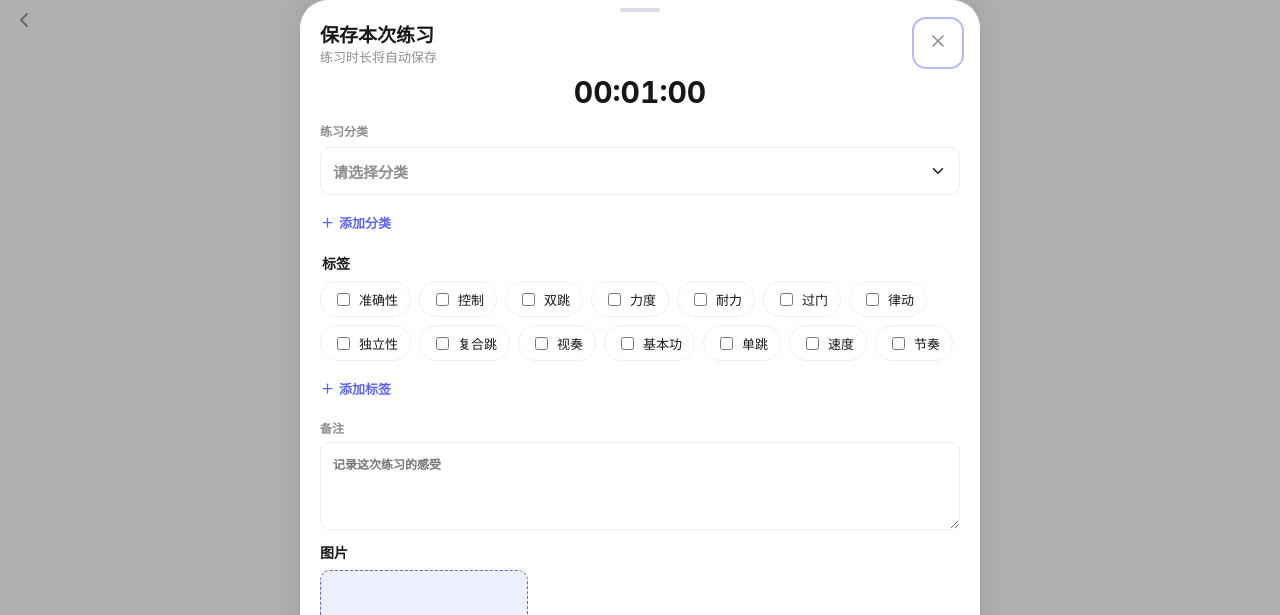
Scenario: TimerPage › keeps the selected category after confirming a new tag
The width and height of the screenshot is (1280, 615).
Click the button with aria-label "选择练习分类". click: click(371, 172)
box: [320,147,960,195]
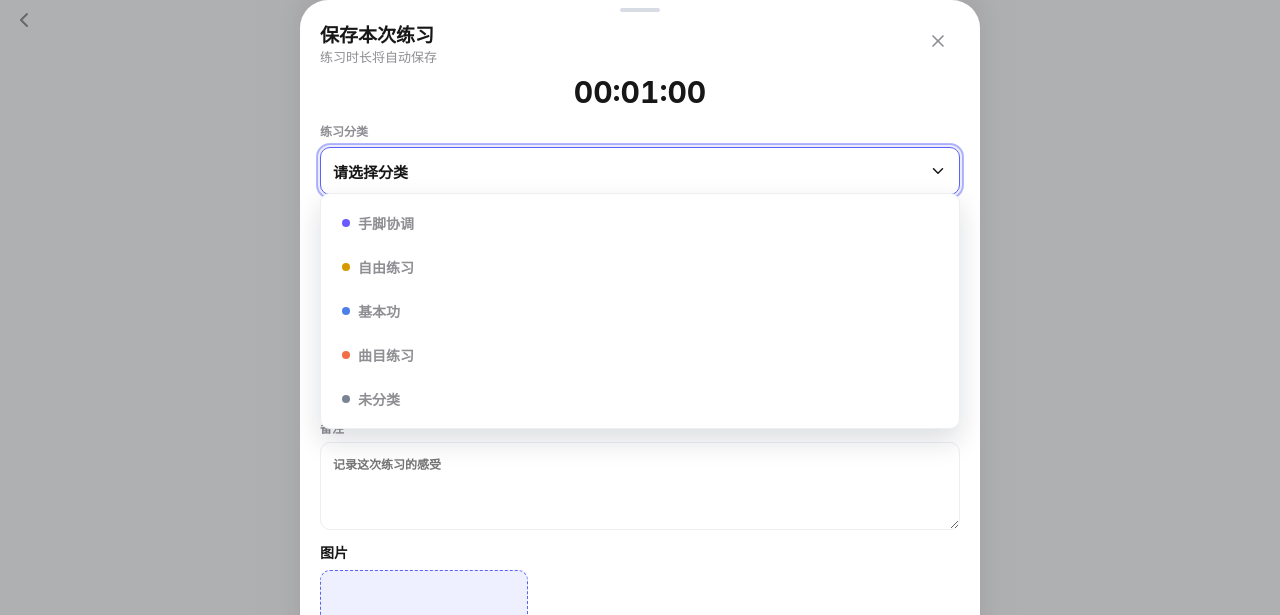
Click the option "基本功". click: click(379, 312)
box: [329,290,951,332]
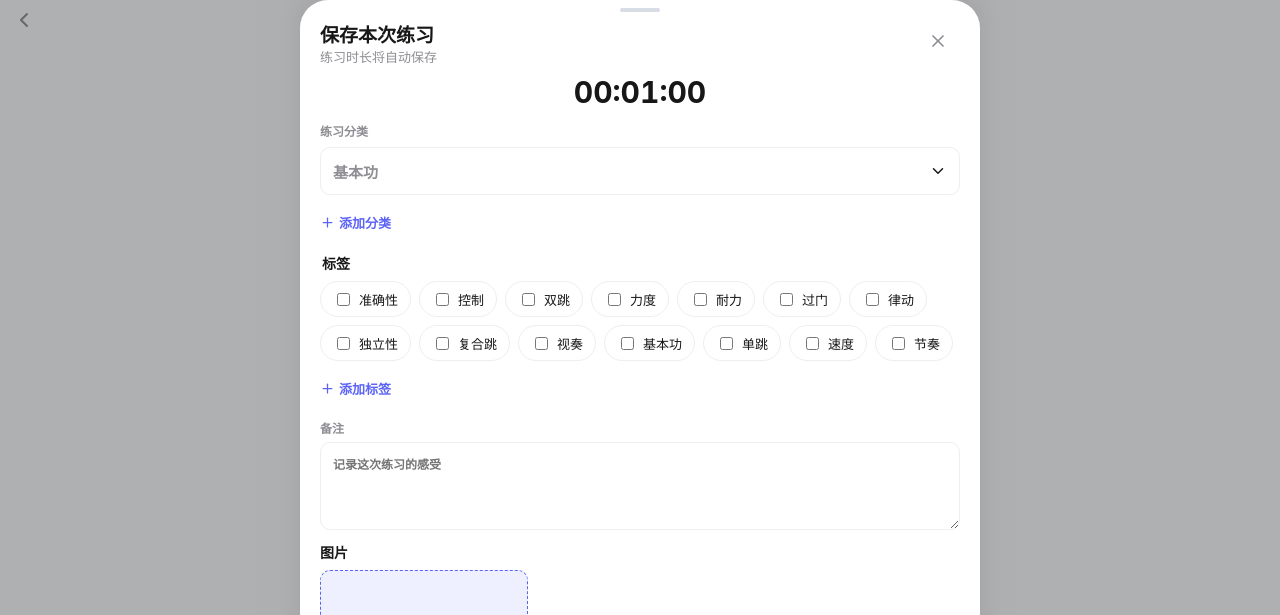
Click the button "添加标签". click: click(356, 388)
box: [320,369,391,407]
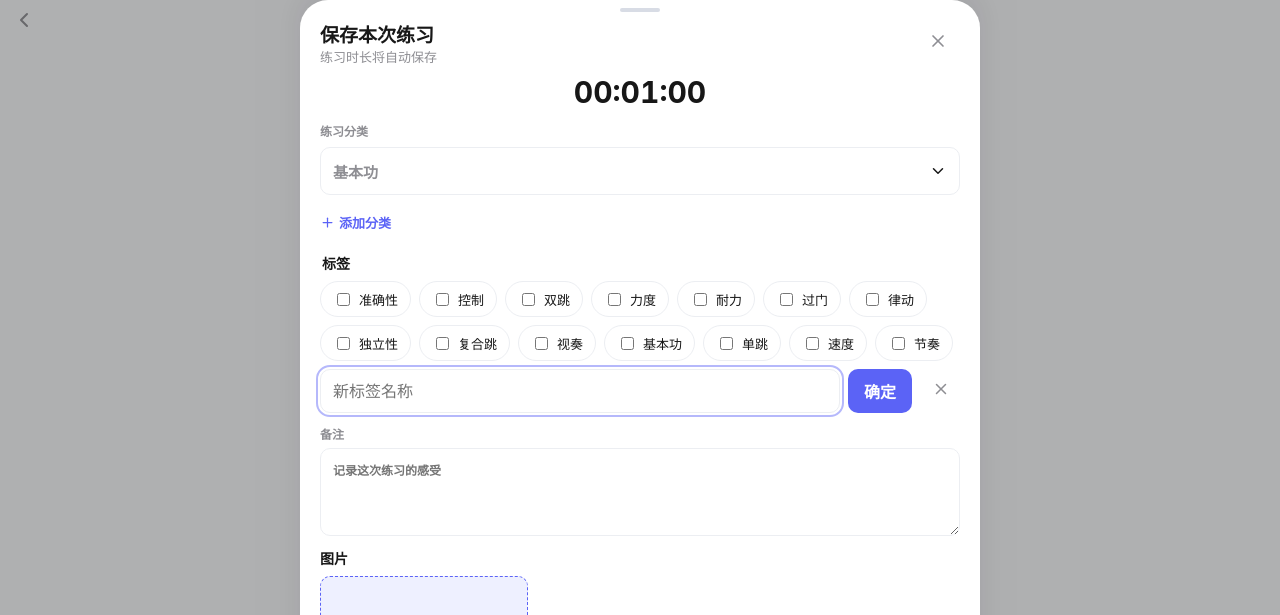
Type "重音控制" into the field labelled "新标签名称". click: (580, 391)
box: [320,369,840,413]
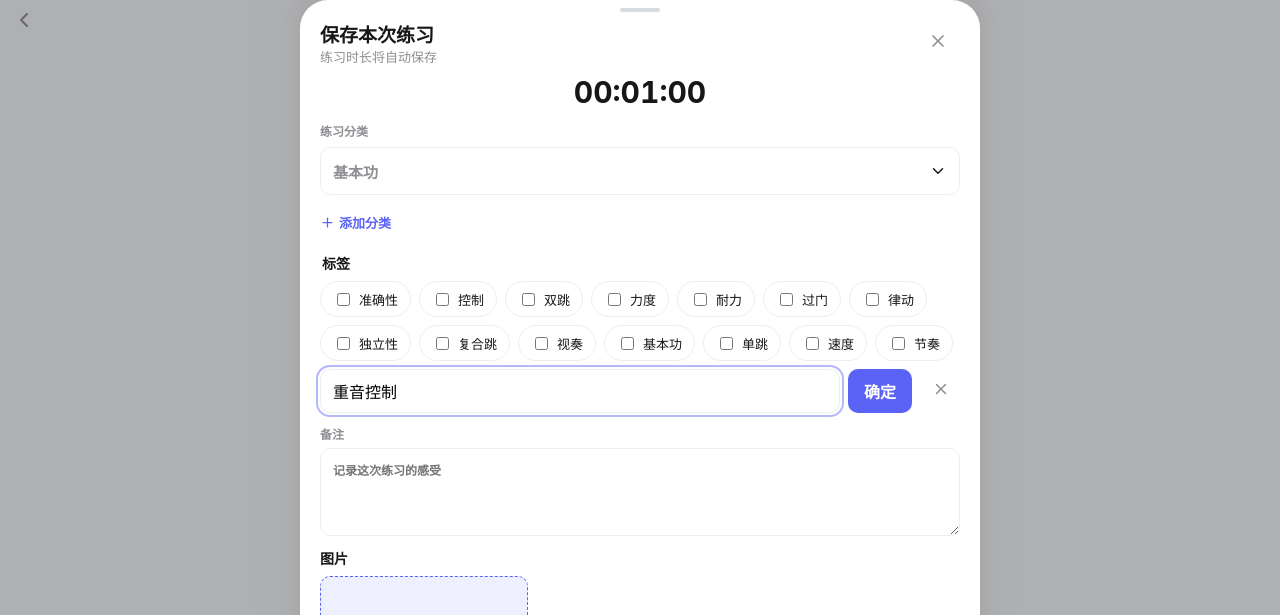
Click the button "确定". click: click(880, 391)
box: [848,369,912,413]
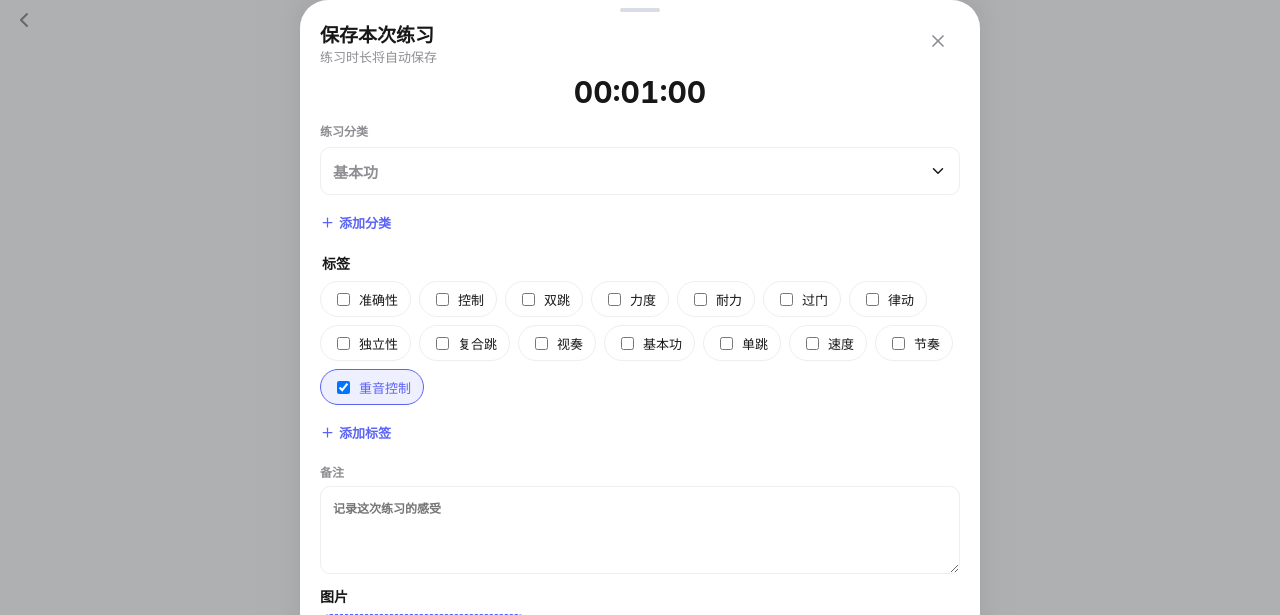
Result: the button with aria-label "选择练习分类" reads "基本功" at [320,147,960,195]
Result: the checkbox labelled "重音控制" is checked at [337,380,350,394]
